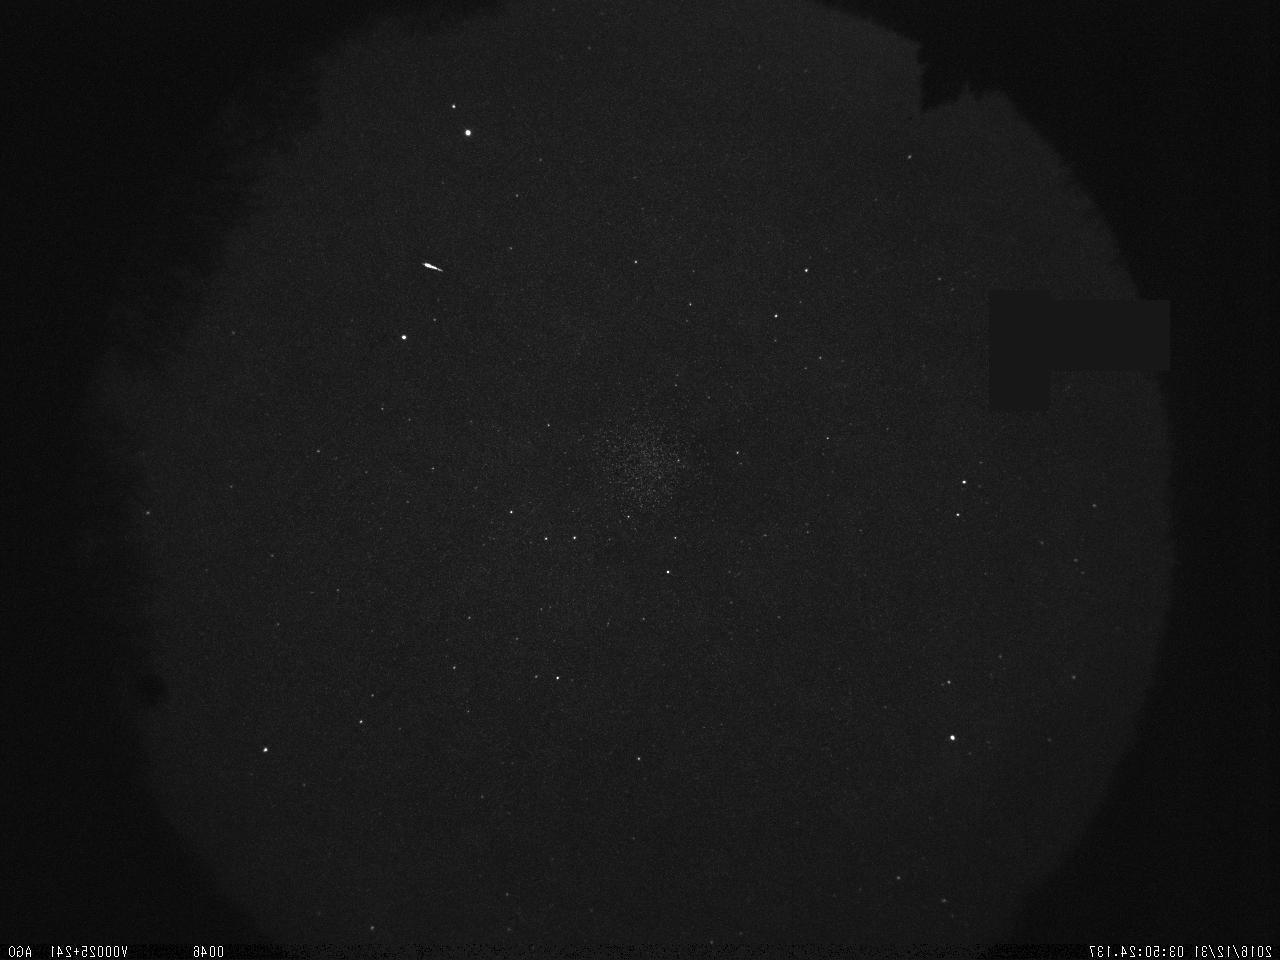meteor: (410, 248, 454, 285)
